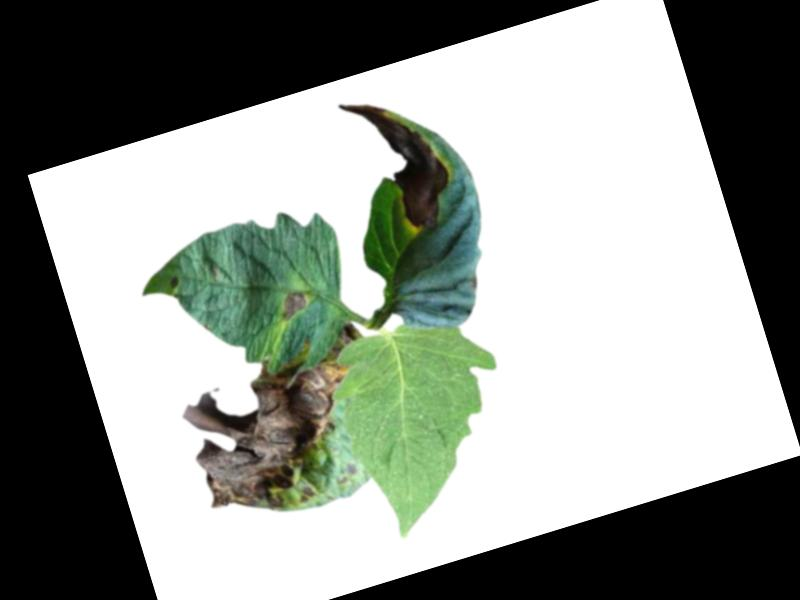Early_blight: (174, 341, 379, 528), (336, 77, 465, 246), (277, 287, 311, 323), (333, 321, 363, 353), (168, 275, 182, 291)
healthy: (321, 301, 540, 548)
